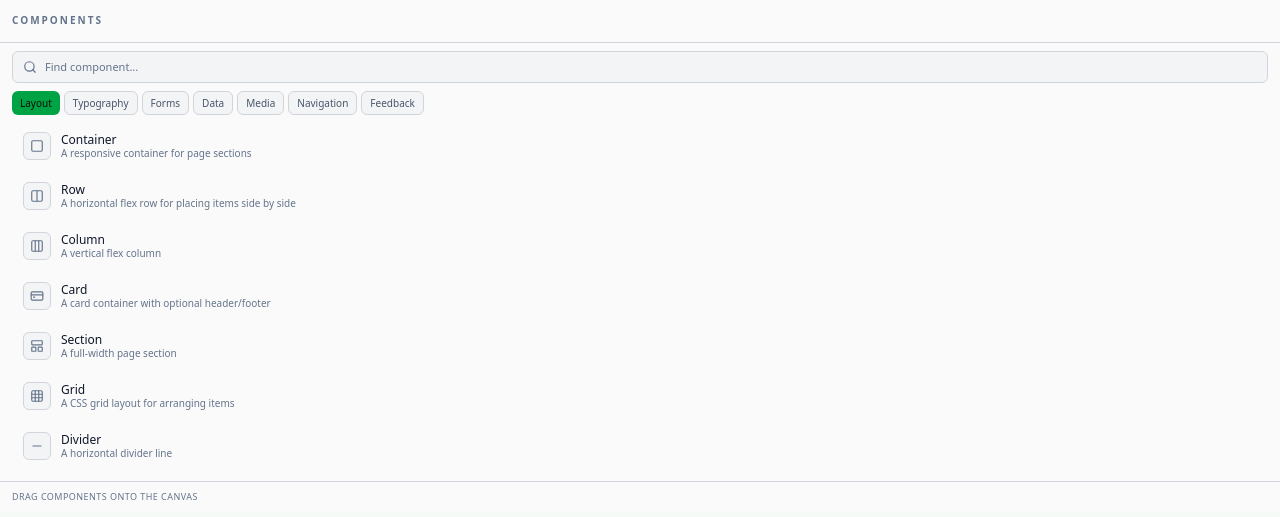
ComponentPalette › filters components by label name
This screenshot has width=1280, height=517.
Step 1. Type "Button" into the field with placeholder "Find component..." → (651, 67), box [45, 59, 1257, 75]
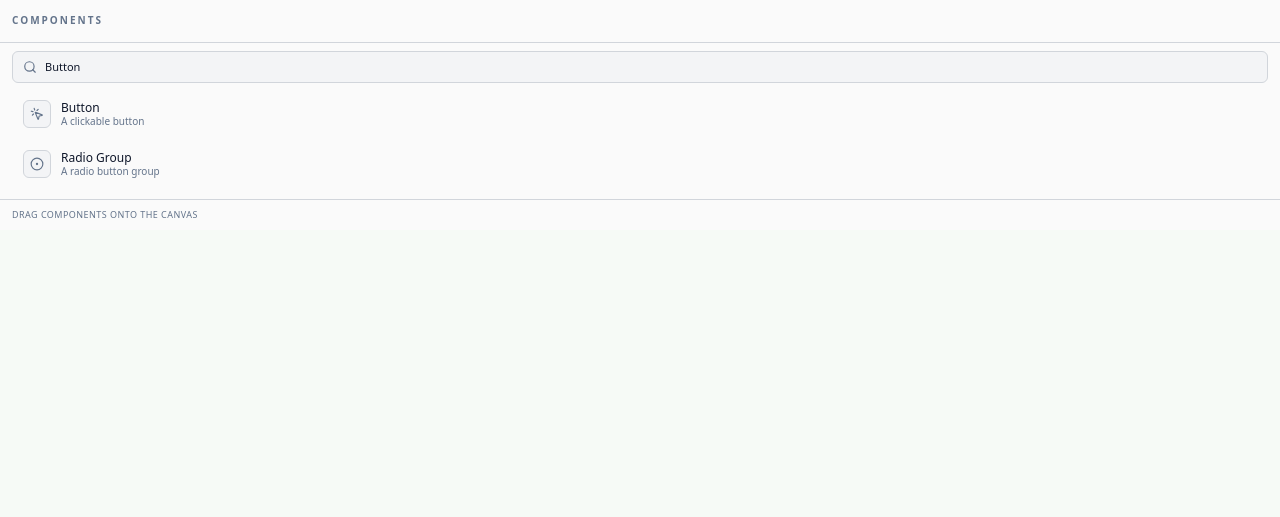
Result: the text "Button" is shown at [61, 99, 100, 116]
Result: the text "Container" is gone
